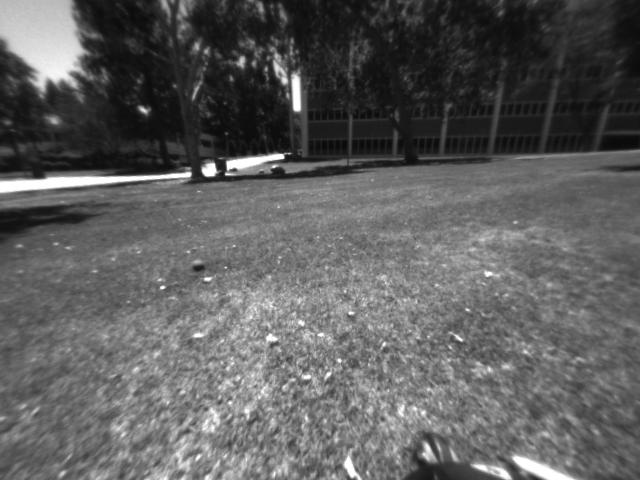dogtoy: (184, 253, 211, 280)
